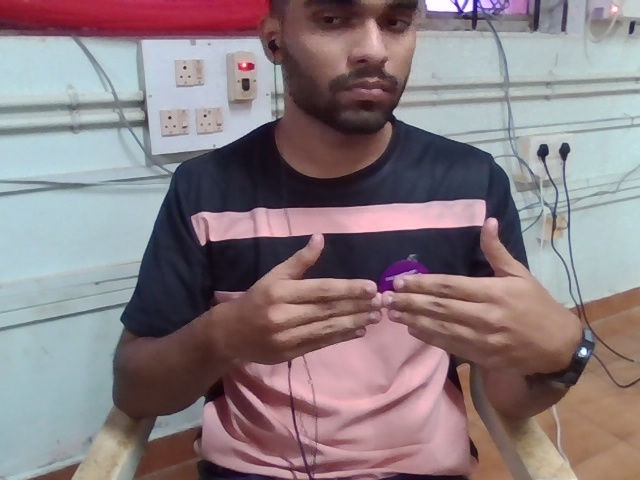more: (218, 204, 577, 388)
